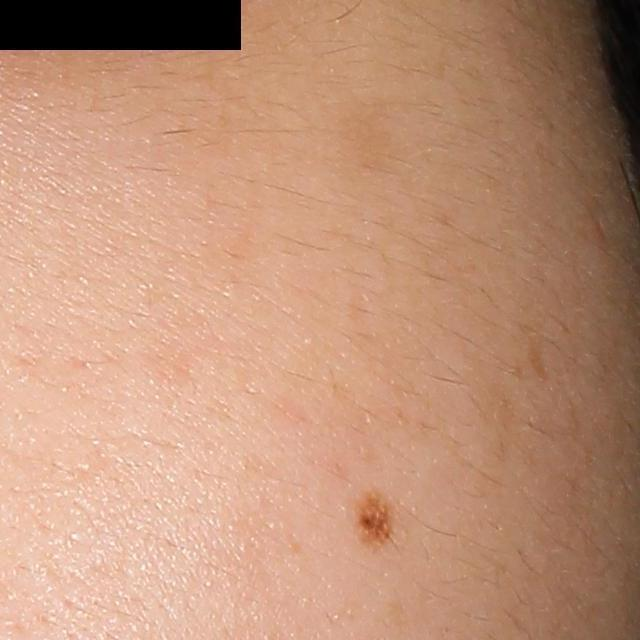melasma: (339, 105, 389, 168)
nevus: (351, 496, 392, 549)
